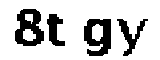8: (8, 4, 46, 49)
g: (80, 13, 113, 60)
t: (47, 13, 74, 52)
y: (115, 10, 149, 60)
